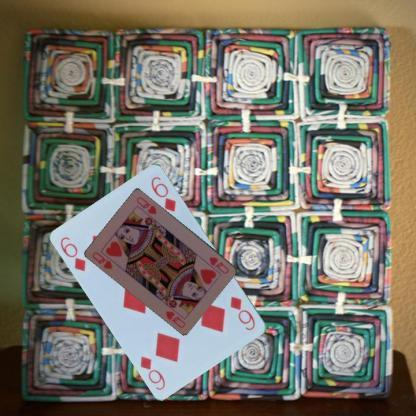6d: (58, 234, 88, 273), (228, 294, 258, 332)
Qh: (89, 248, 114, 270), (207, 254, 230, 275)
